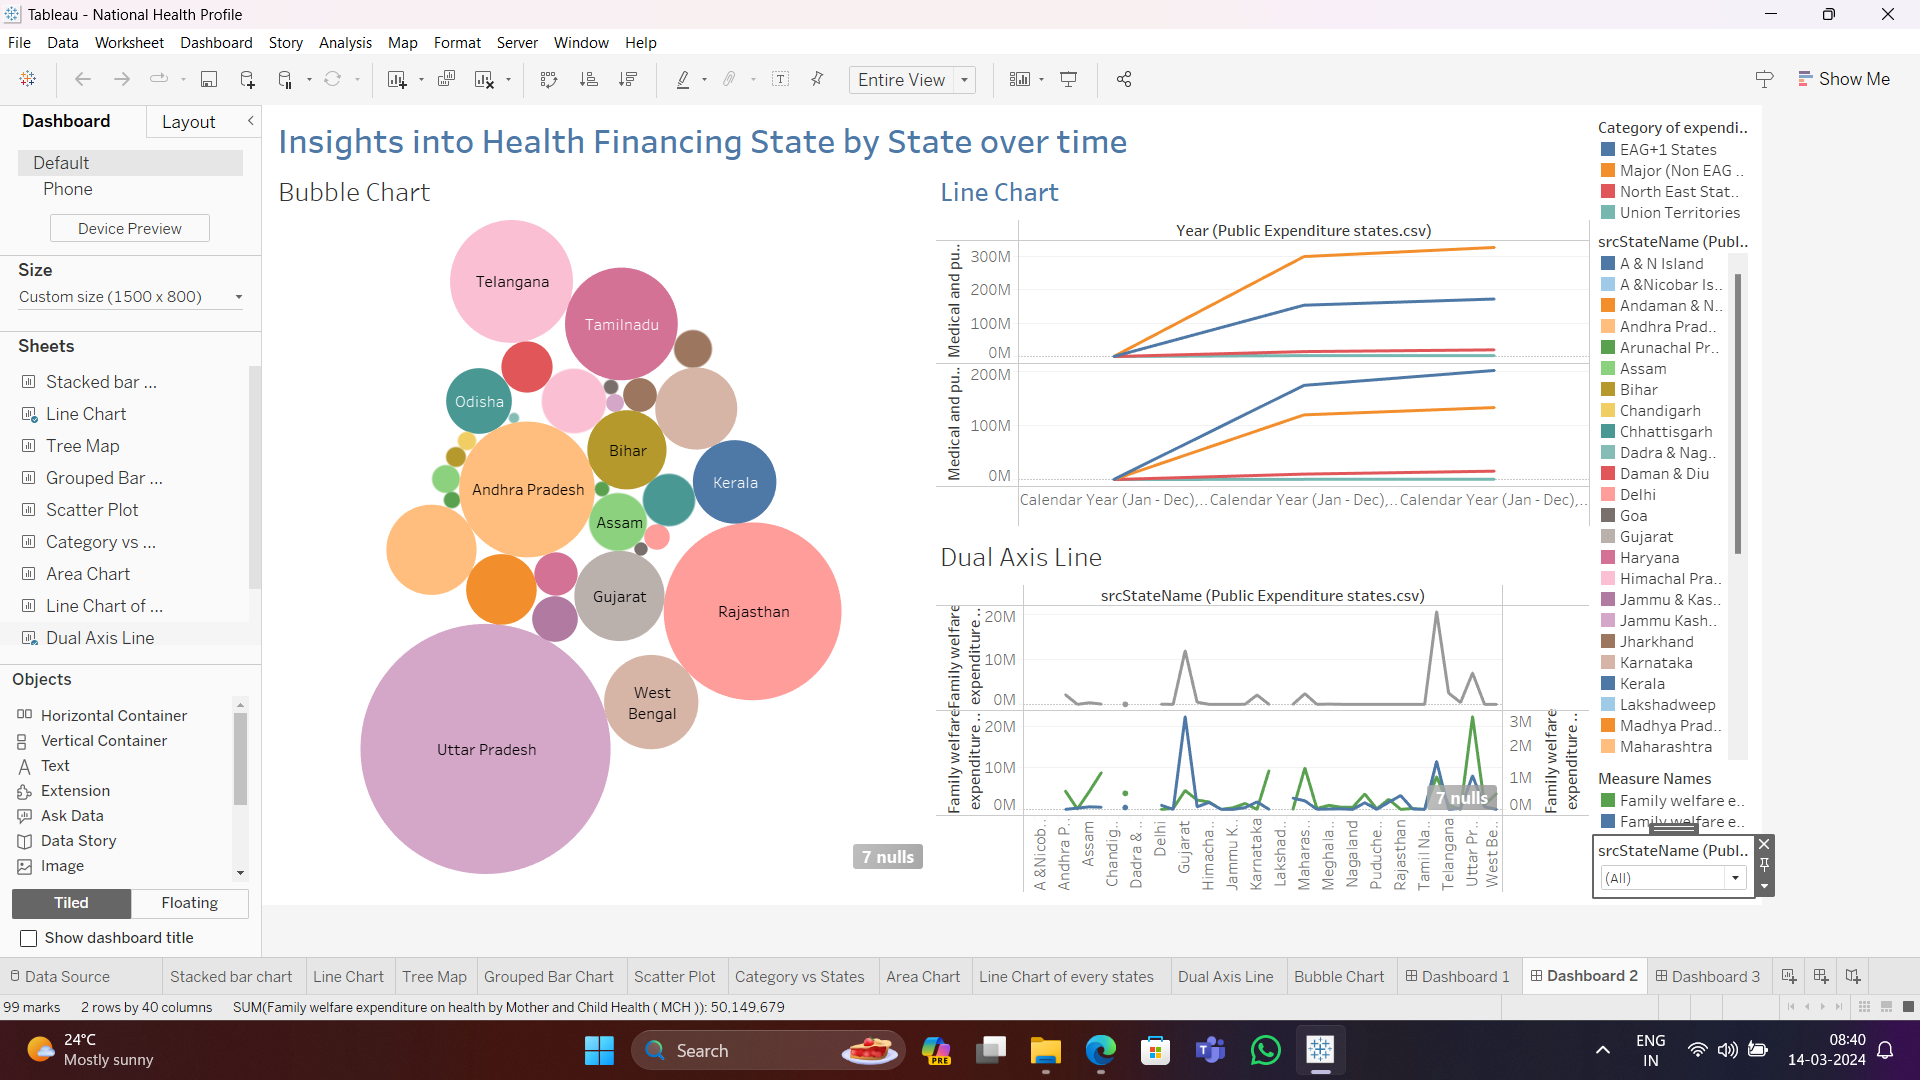

This screenshot's page, from the dashboard's own definition file:
{"tool":"tableau","page":{"name":"Dashboard 2","canvas":[1500,800],"ordinal":1},"visuals":[{"type":"title","box":[8,8,1324,53]},{"type":"legend","title":"Line Chart","param":"[federated.0fao5pk0phrhz61fczgl31r1oml0].[none:Category of expenditure:nk]","box":[1332,8,160,114]},{"type":"worksheet","title":"Bubble Chart","mark":"Circle","box":[8,61,662,731]},{"type":"worksheet","title":"Line Chart","mark":"Line","rows":["Medical and public expenditure on health by Urban Health Ser","Medical and public expenditure on health by Rural Health Ser"],"cols":["Year (Public_Expenditure_states.csv)"],"box":[670,61,662,365.5]},{"type":"legend","title":"Bubble Chart","param":"[federated.0fao5pk0phrhz61fczgl31r1oml0].[none:srcStateName (Public_Expenditure_","box":[1332,122,160,537]},{"type":"worksheet","title":"Dual Axis Line","mark":"Line","rows":["Family welfare expenditure on health by Mother and Child Hea","Family welfare expenditure on health by Rural Family Welfare","Family welfare expenditure on health by Urban Family Welfare"],"cols":["srcStateName (Public_Expenditure_states.csv)"],"box":[670,426.5,662,365.5]},{"type":"legend","title":"Dual Axis Line","param":"[federated.0fao5pk0phrhz61fczgl31r1oml0].[:Measure Names]","box":[1332,659,160,72]},{"type":"filter","title":"Dual Axis Line","param":"[federated.0fao5pk0phrhz61fczgl31r1oml0].[none:srcStateName (Public_Expenditure_","box":[1332,731,160,61]}]}

Visuals, with their boxes on the page's 1500x800 design canvas (x1, y1, x2, y2). These are canvas units, not pixel positions in the 1920x1080 screenshot, which may show the page scaled, cropped or inside an application window:
title: [8, 8, 1332, 61]
"Line Chart" legend: [1332, 8, 1492, 122]
"Bubble Chart" worksheet (Circle marks): [8, 61, 670, 792]
"Line Chart" worksheet (Line marks): [670, 61, 1332, 426]
"Bubble Chart" legend: [1332, 122, 1492, 659]
"Dual Axis Line" worksheet (Line marks): [670, 426, 1332, 792]
"Dual Axis Line" legend: [1332, 659, 1492, 731]
"Dual Axis Line" filter: [1332, 731, 1492, 792]
